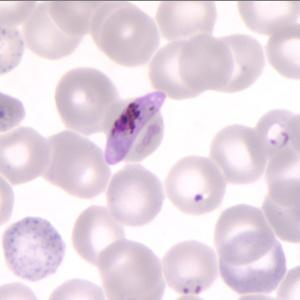Infected: (103, 89, 168, 165), (166, 241, 218, 298), (257, 108, 300, 170)
Uninfected: (57, 67, 119, 131), (168, 155, 226, 216), (22, 1, 84, 58), (70, 205, 126, 266), (216, 205, 273, 263), (107, 168, 162, 227), (99, 242, 161, 294), (181, 33, 236, 91), (104, 7, 160, 63), (212, 123, 261, 184), (149, 40, 199, 99), (0, 129, 52, 185), (63, 141, 109, 200), (222, 33, 268, 91), (155, 1, 217, 43), (236, 0, 300, 34), (265, 23, 300, 82)
